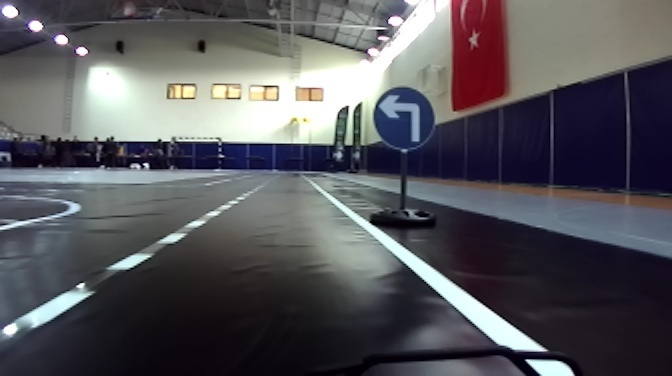sola_donus: (372, 84, 436, 150)
